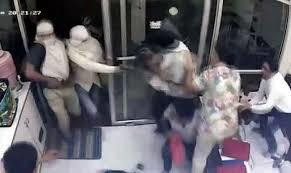weapon: (54, 77, 72, 90), (117, 63, 138, 72)
